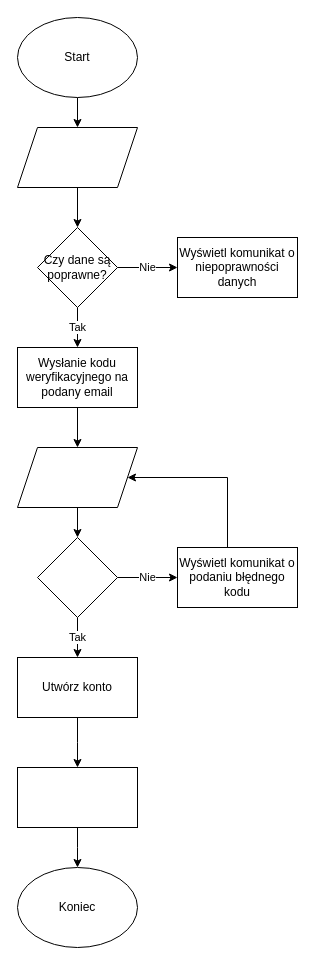
Image size: 315x965. Some labels were removed from this diagram. The centre of each missing label's shape, as x and y in pixels:
"Czy kod jest poprawny?" goes at (77,577).
"Podaj kod weryfikacyjny" goes at (77,477).
"Podaj login, hasło, email" goes at (77,157).
"Wyświetl komunikat o pomyślności zakładania konta" goes at (77,797).
